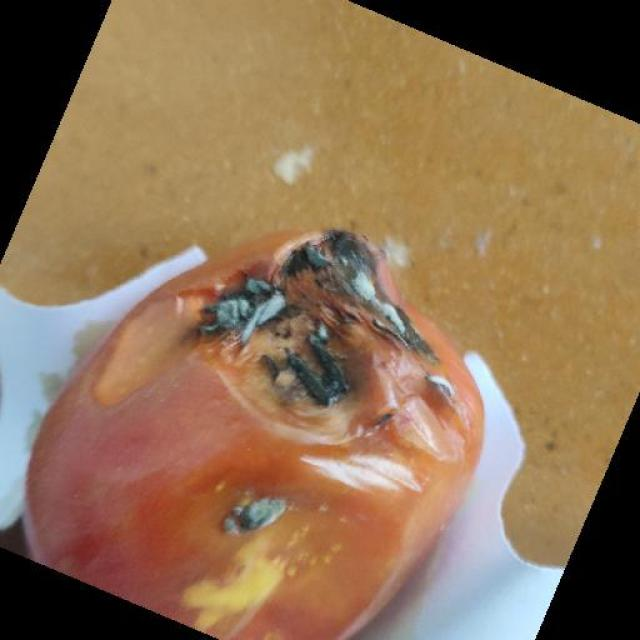Stale_tomato: (44, 194, 472, 634)
